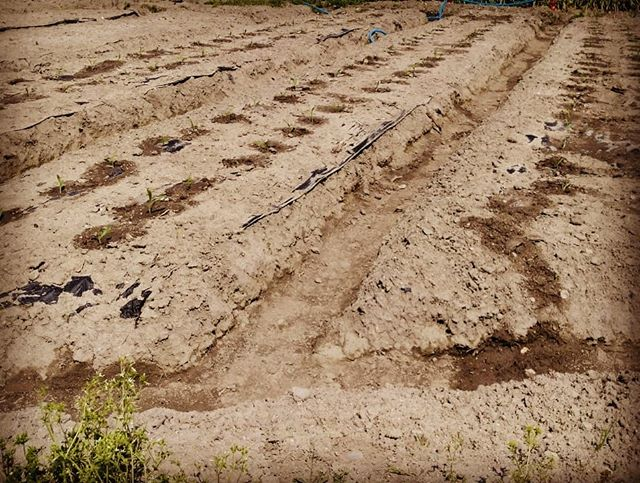dirt: (1, 1, 640, 483)
